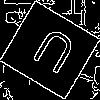U: (25, 25, 79, 84)
